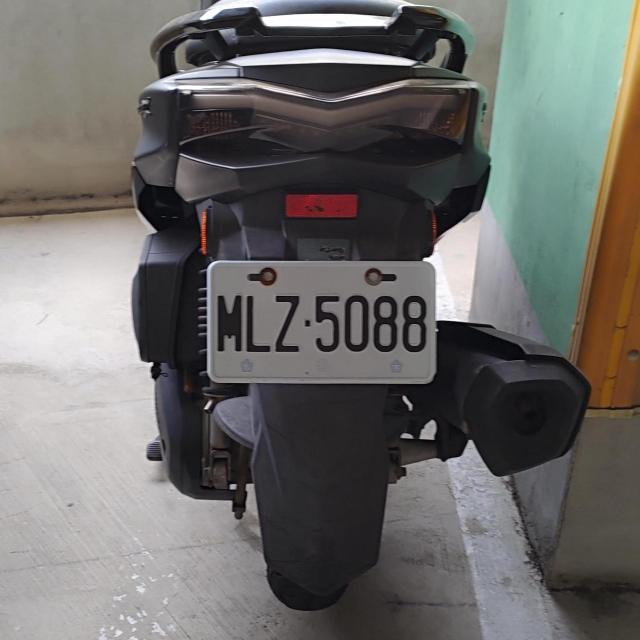W: (206, 258, 438, 383)
